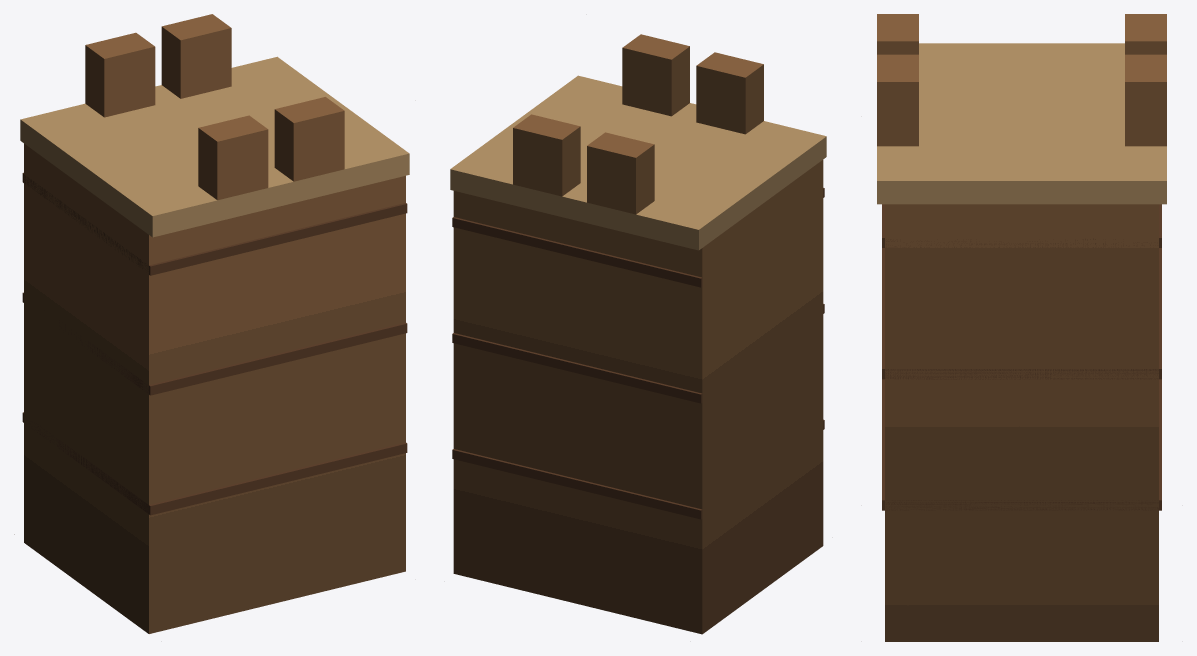
Rendered from perimeter_wall_wood_straight.glb.
3 renders of one model, left to right at view 1: azimuth 30°, elevation 25°; view 2: azimuth 150°, elevation 25°; view 3: azimuth 270°, elevation 25°, orthographic. The views are drawn at different scales.
Bounding box in the file's own units: 2.02 × 3.6 × 2.
1 material, 1 textured.
